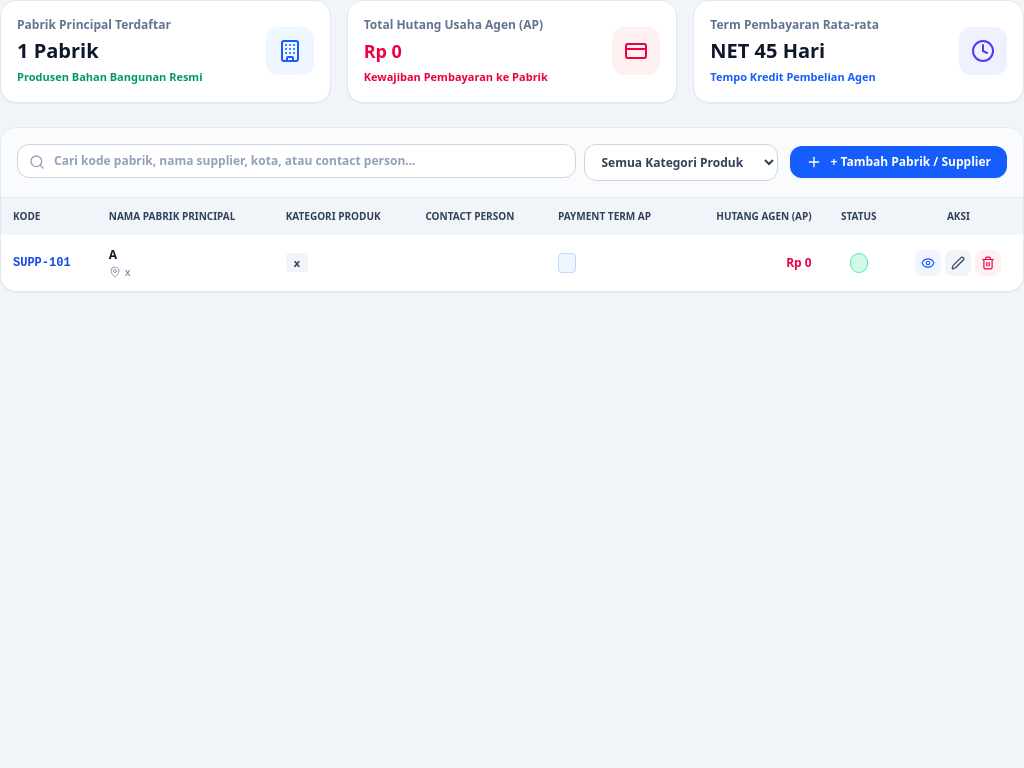
SupplierMaster add flow › keeps the form open and explains when the code is already used
Click the button "+ Tambah Pabrik / Supplier": (899, 162) [790,146,1007,178]
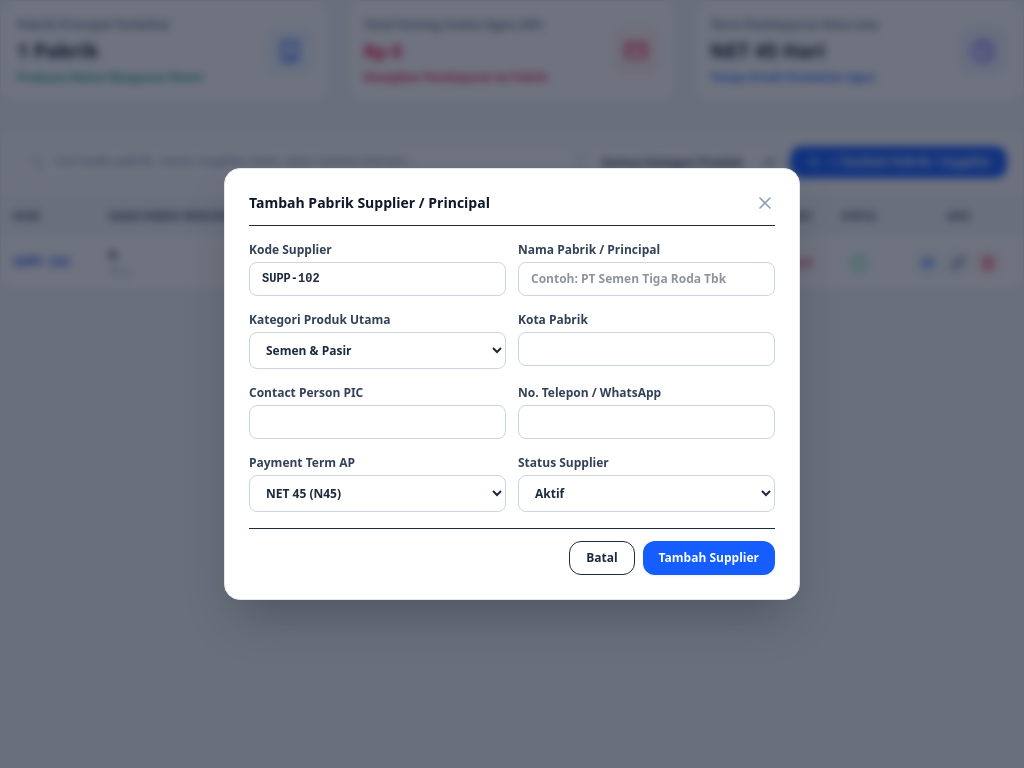
Replace the text in the field below "Kode Supplier" with "supp-101": (378, 279) [249,262,506,296]
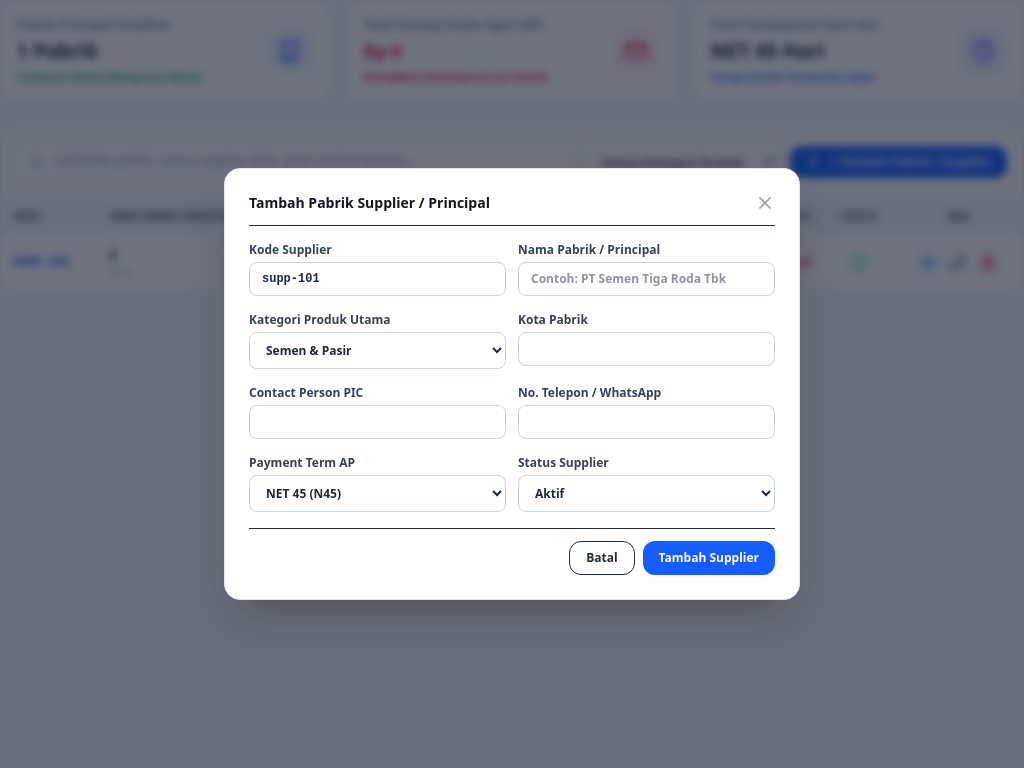
In the field with placeholder "Contoh: PT Semen Tiga Roda Tbk": (646, 279) [518,262,775,296], type "PT Lain"
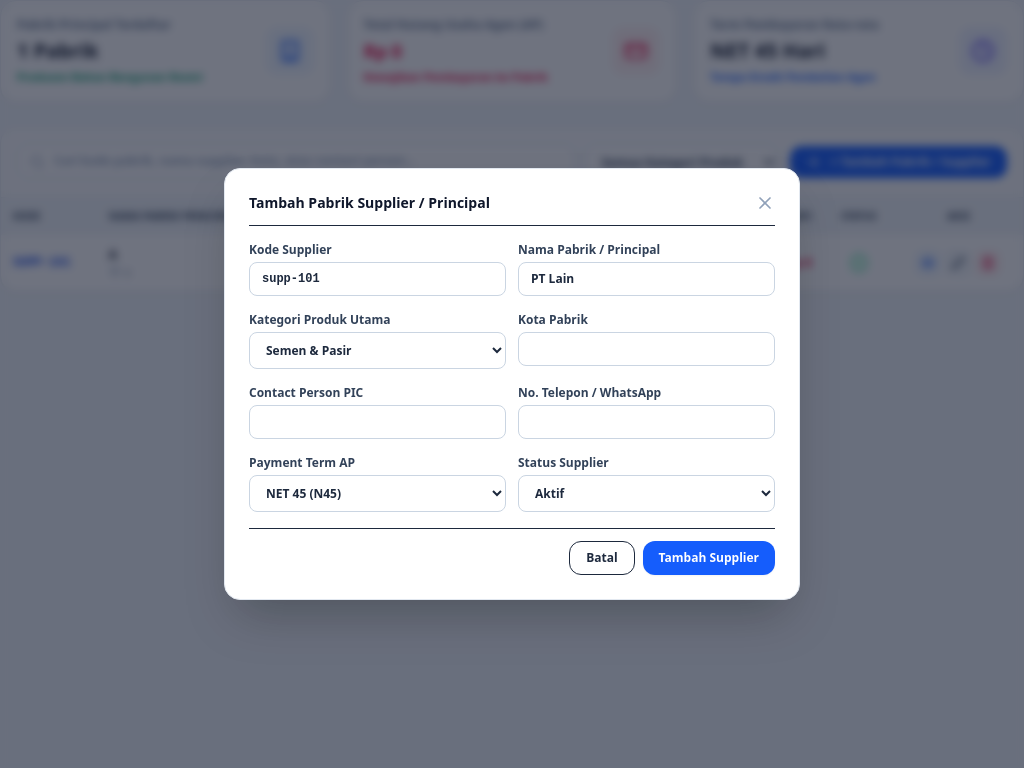
In the field below "Kota Pabrik": (646, 349) [518,332,775,366], type "Bogor"
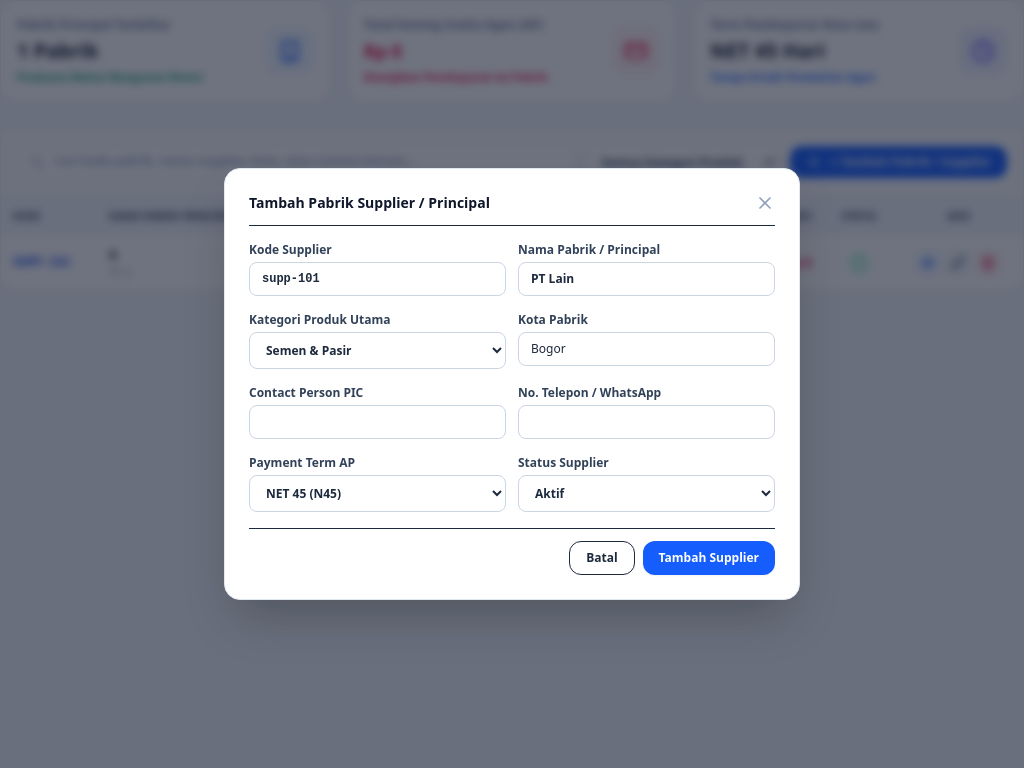
Click the button "Tambah Supplier": (709, 558) [643,541,775,575]
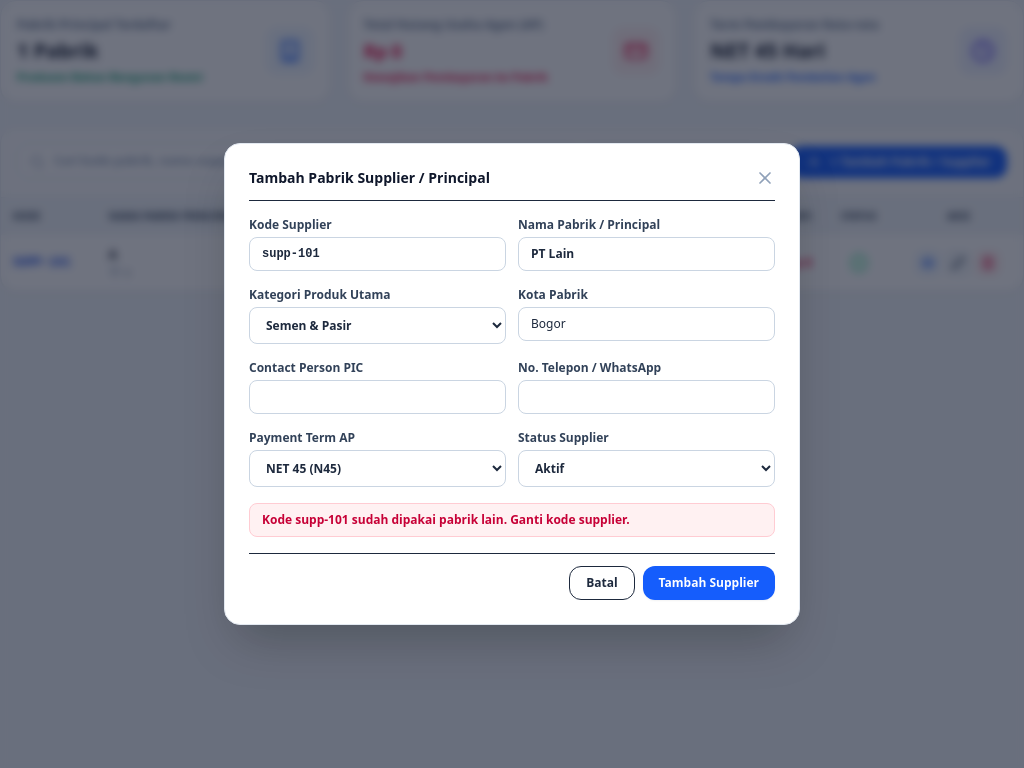
Expected: the message shows "sudah dipakai", [262,511,630,528]
